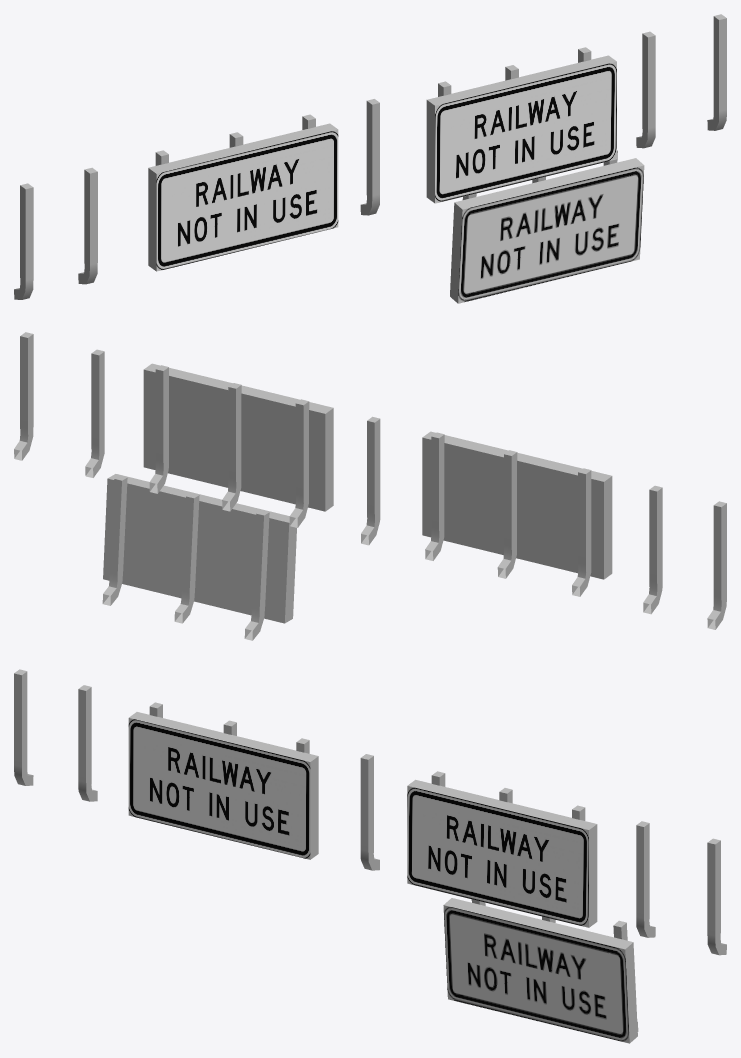
The model's file is Asset_BridgeSigns.fbx.
3 views of the same model, one above another, from view 1: azimuth 30°, elevation 25°; view 2: azimuth 150°, elevation 25°; view 3: azimuth 330°, elevation 25° (orthographic).
Visible parts, largest first — view 1: pCube463; view 2: pCube463; view 3: pCube463.
Part boxes in pixels (bbox=[...]): pCube463: bbox=[14, 14, 726, 303]; pCube463: bbox=[14, 332, 726, 640]; pCube463: bbox=[14, 669, 726, 1043].
Size of the model in its own units: 30.64 by 9.62 by 2.44.
